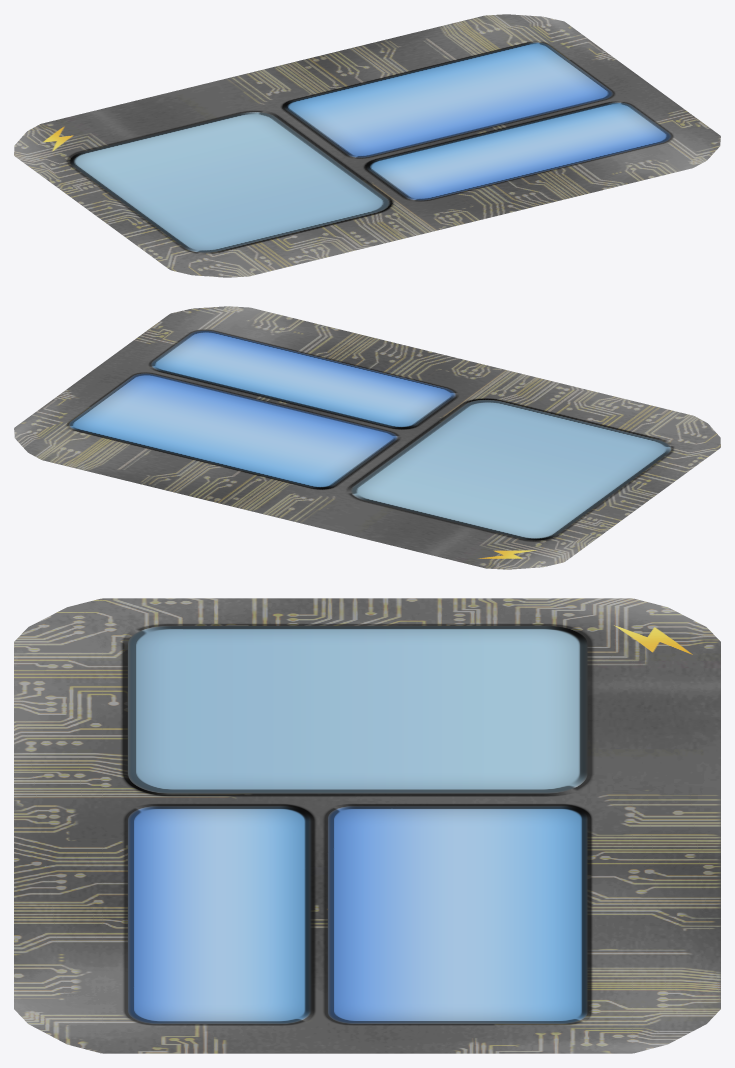
Rendered from card1.fbx.
3 renders of one model, top to bottom at view 1: azimuth 30°, elevation 25°; view 2: azimuth 150°, elevation 25°; view 3: azimuth 270°, elevation 25°, orthographic. The views are drawn at different scales.
Parts seen in each view (by area): view 1: pPlane1; view 2: pPlane1; view 3: pPlane1.
Boxes of the visible parts, <box> form: pPlane1: <box>14,14,720,277</box>; pPlane1: <box>14,306,720,569</box>; pPlane1: <box>14,598,720,1053</box>.
Bounding box in the file's own units: 10.59 × 0 × 6.94.
Materials: 1 (1 with a texture image).
